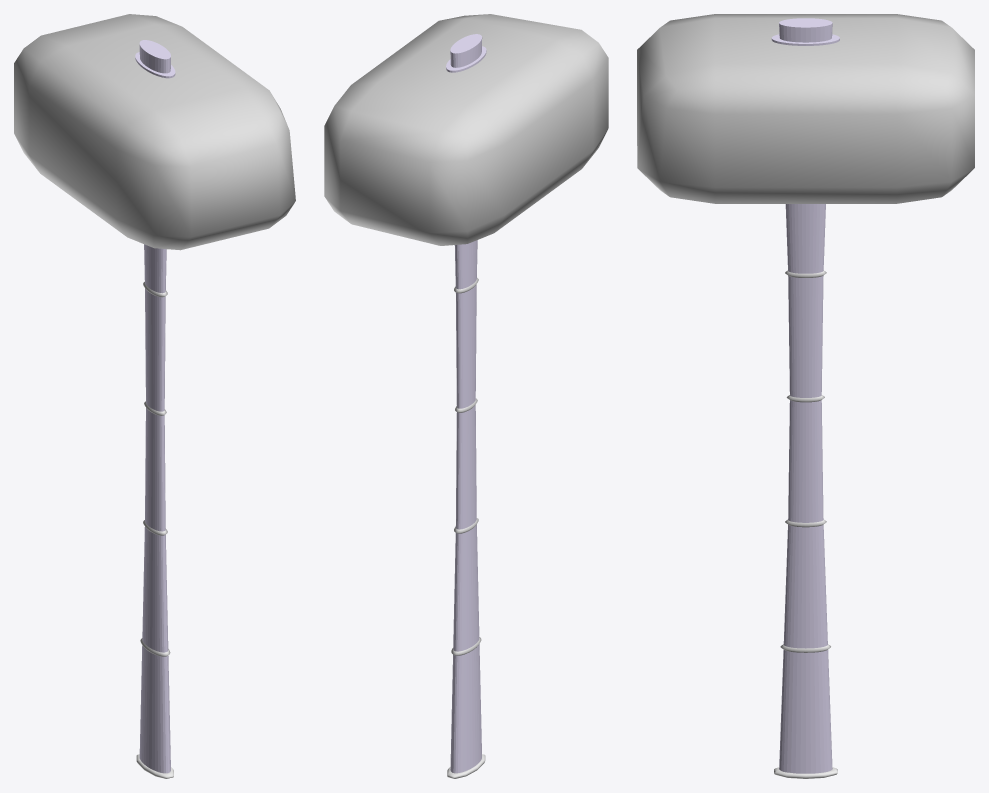
Rendered from Hammer.glb.
3 renders of one model, left to right at view 1: azimuth 30°, elevation 25°; view 2: azimuth 150°, elevation 25°; view 3: azimuth 270°, elevation 25°, orthographic. The views are drawn at different scales.
Visible parts, largest first — view 1: Cube, Cylinder, Cylinder.002; view 2: Cube, Cylinder, Cylinder.002; view 3: Cube, Cylinder, Cylinder.002.
Part boxes in pixels (x1,y1,x2,y2): Cube: (14, 14, 295, 250); Cylinder: (135, 40, 175, 773); Cylinder.002: (136, 281, 173, 778); Cube: (324, 14, 608, 245); Cylinder: (446, 34, 486, 773); Cylinder.002: (447, 278, 485, 778); Cube: (637, 14, 974, 203); Cylinder: (771, 18, 839, 773); Cylinder.002: (774, 270, 837, 778).
Bounding box in the file's own units: 17.89 × 74.73 × 30.44.
